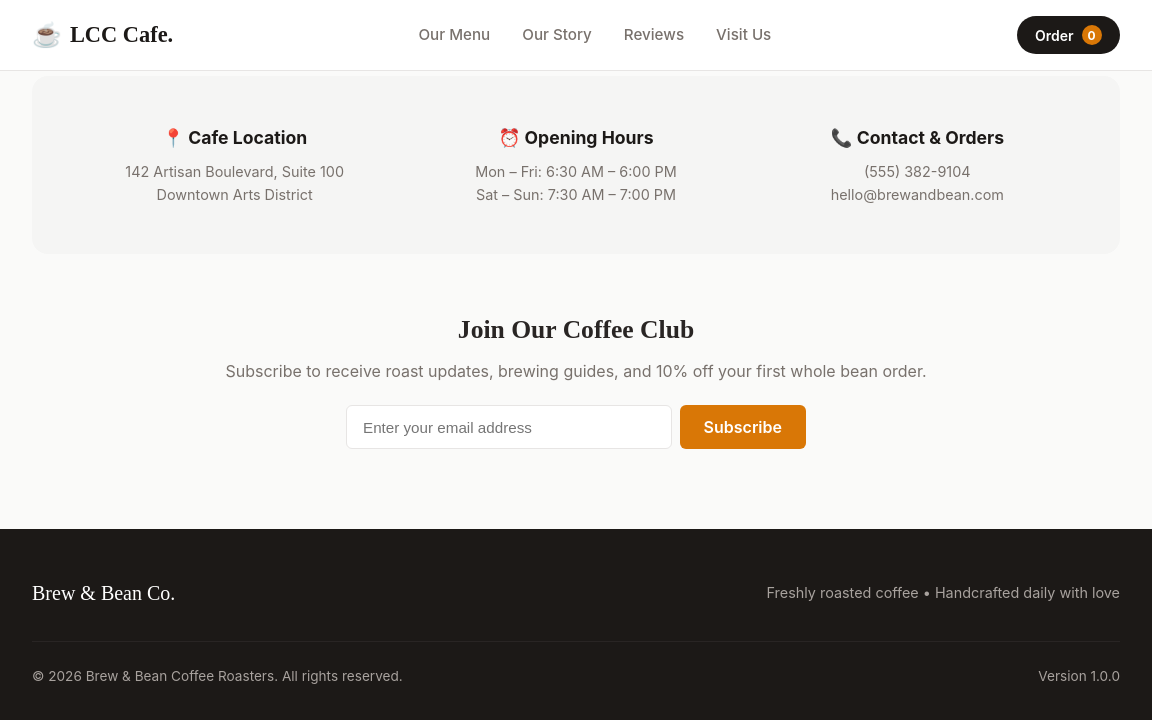
Test case: Brew & Bean Co. - Landing Page Tests › submits newsletter subscription and displays success message
(page scrolled)
In the field with placeholder "Enter your email address": (509, 427) x1=346 y1=405 x2=672 y2=449, type "guest@example.com"
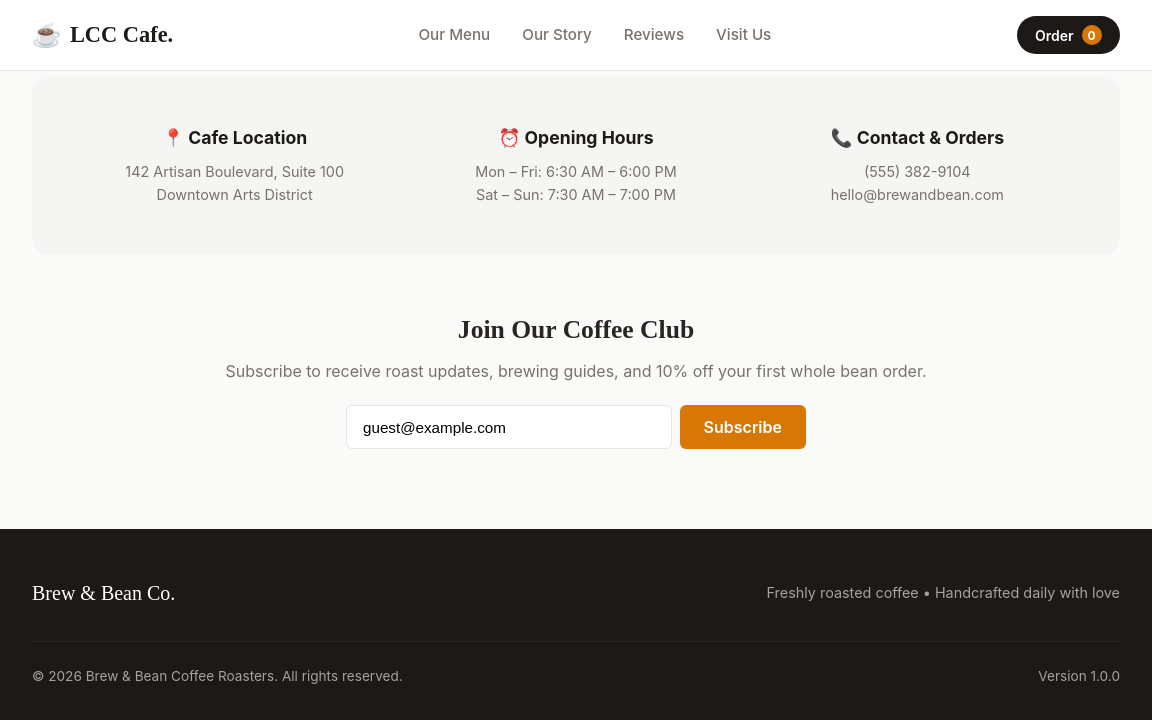
Click the button "Subscribe": (743, 427) x1=680 y1=405 x2=806 y2=449
(page scrolled)
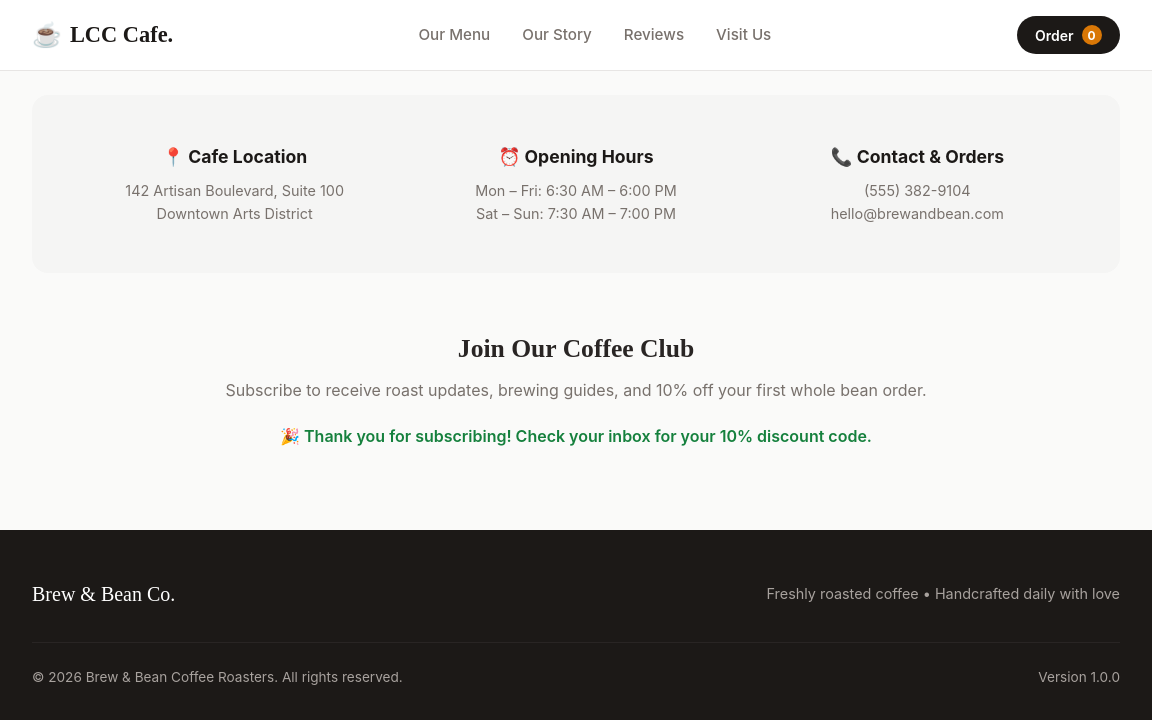
Check: the text "Thank you for subscribing!" is shown, box x1=280 y1=426 x2=872 y2=446
